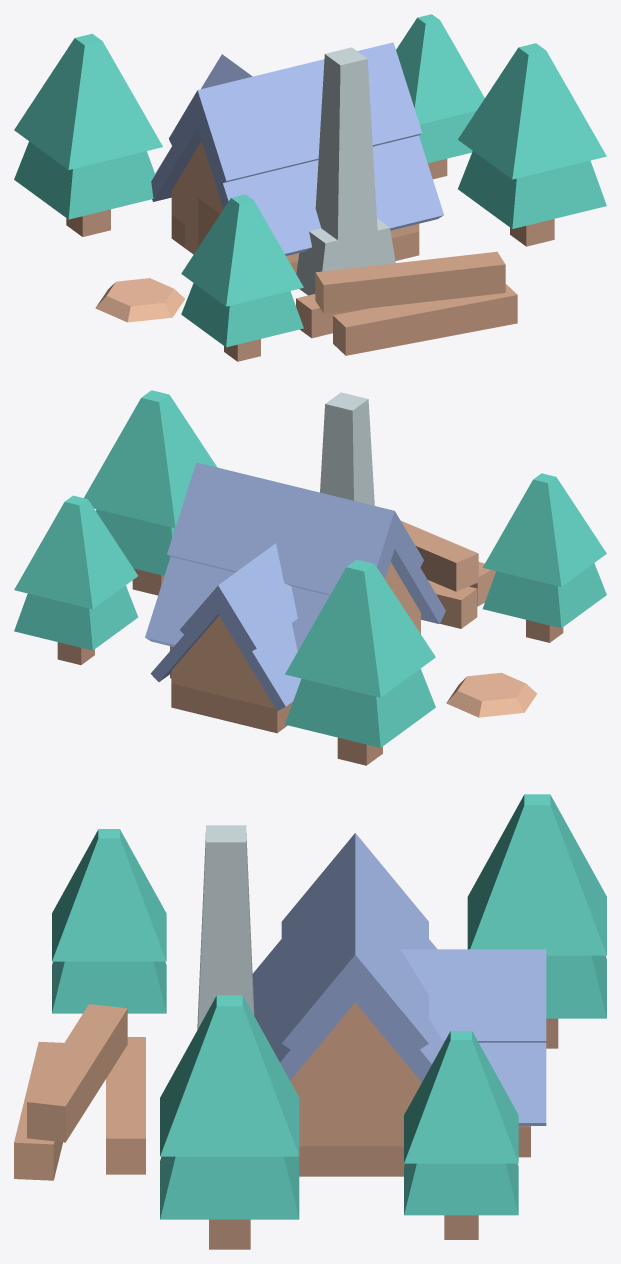
The model's file is Sawmilllvl1.fbx.
3 renders of one model, top to bottom at view 1: azimuth 30°, elevation 25°; view 2: azimuth 150°, elevation 25°; view 3: azimuth 270°, elevation 25°, orthographic. The views are drawn at different scales.
Parts seen in each view (by area): view 1: Cabin, tree.006, tree.003, Log, Chimney, tree.004, tree.005, Path; view 2: Cabin, tree.003, tree.006, tree.005, tree.004, Chimney, Log, Path; view 3: Cabin, tree.006, tree.003, tree.005, tree.004, Log, Chimney.
Part boxes in pixels (x1,y1,x2,y2): Cabin: (151,42,443,273); tree.006: (458,43,606,246); tree.003: (14,33,162,236); Log: (296,251,517,355); Chimney: (296,47,395,295); tree.004: (181,194,303,361); tree.005: (396,14,484,179); Path: (95,278,184,322); Cabin: (145,462,445,733); tree.003: (285,559,435,765); tree.006: (84,390,217,595); tree.005: (14,495,138,664); tree.004: (482,473,606,642); Chimney: (320,392,374,505); Log: (401,521,495,628); Path: (446,672,537,717); Cabin: (252,833,546,1176); tree.006: (160,995,299,1249); tree.003: (467,794,606,1048); tree.005: (404,1031,518,1239); tree.004: (52,829,166,1013); Log: (14,1004,145,1180); Chimney: (197,825,254,1029).
Bounding box in the file's own units: 82.39 × 40 × 74.09.
